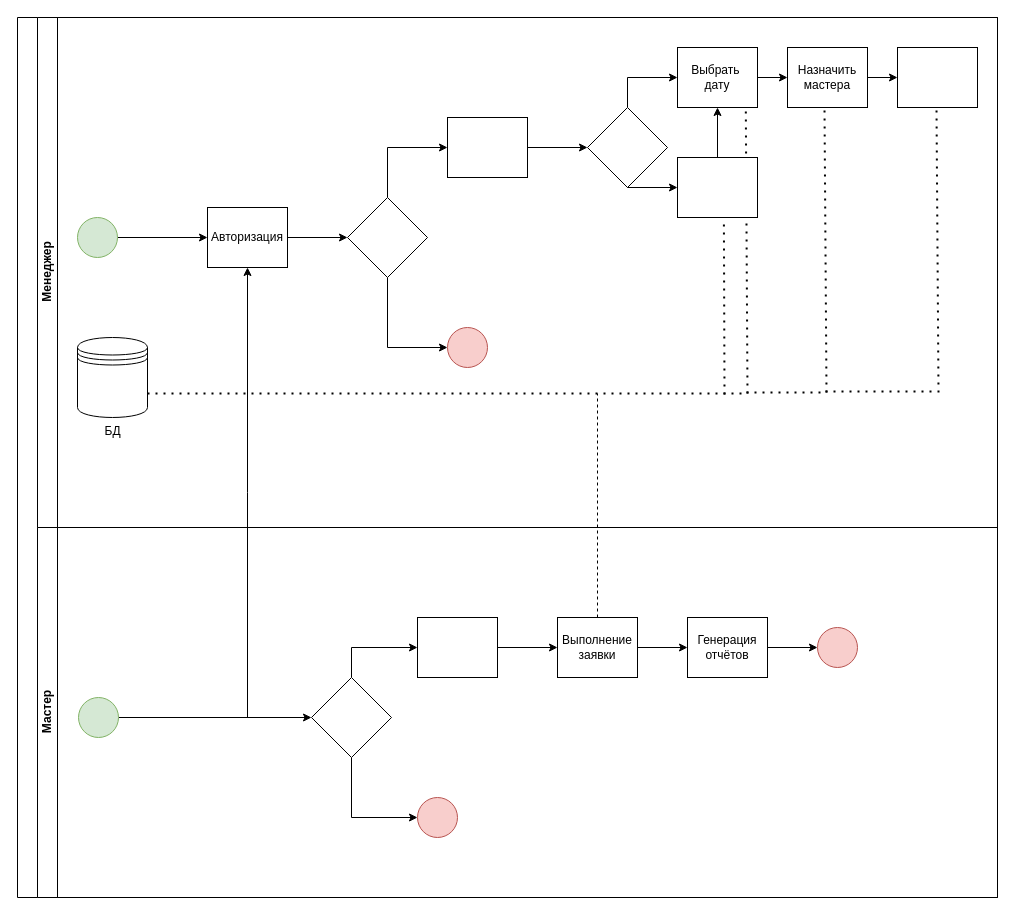
The diagram is 1015 pixels wide and 915 high, and some of its shapes have lost their labels. Here are the shapes that lost their labels. From the top down, the box of each, then its label:
(896, 46, 978, 108): Добавить заявку в бд
(446, 116, 528, 178): Создание заявки
(676, 156, 758, 218): Создать данные клиента
(416, 616, 498, 678): Просмотр заявки
